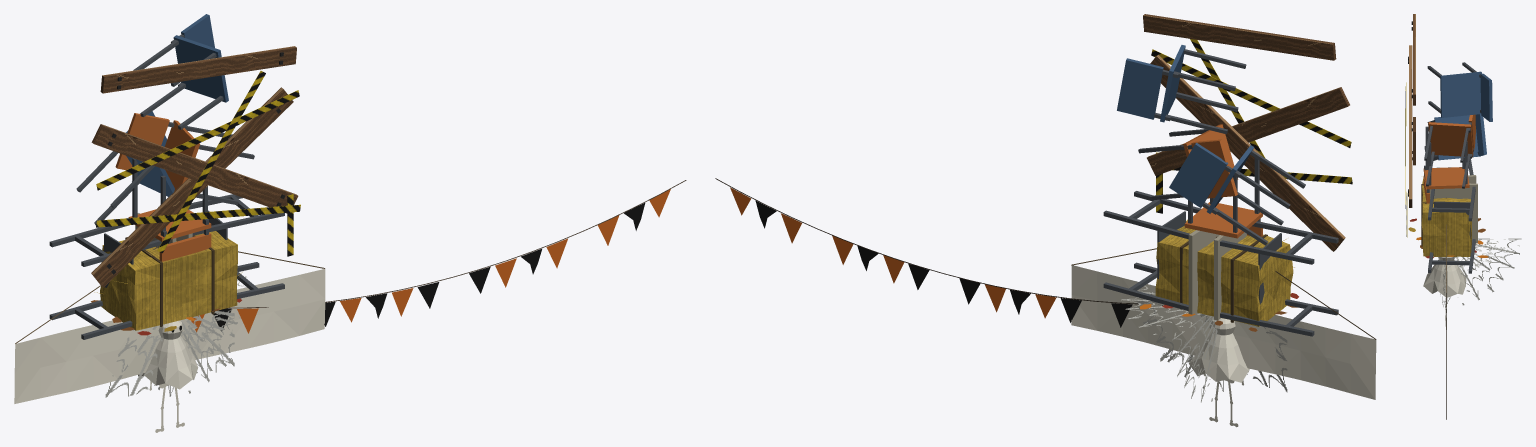
Rendered from halloween_kit.glb.
3 renders of one model, left to right at view 1: azimuth 30°, elevation 25°; view 2: azimuth 150°, elevation 25°; view 3: azimuth 270°, elevation 25°, orthographic. The views are drawn at different scales.
Parts seen in each view (by area): view 1: stair_barricade, banner_board, hay_bale, bunting, ghost_sheet, cobweb_sheet, cobweb_corner; view 2: stair_barricade, banner_board, hay_bale, bunting, ghost_sheet, cobweb_corner; view 3: stair_barricade, hay_bale, ghost_sheet, cobweb_corner, leaves, banner_board.
Boxes of the visible parts, box(x1,y1,x2,y2) form: stair_barricade: box(49, 14, 300, 339); banner_board: box(14, 239, 325, 403); hay_bale: box(94, 231, 242, 330); bunting: box(191, 180, 686, 333); ghost_sheet: box(138, 320, 198, 389); cobweb_sheet: box(105, 310, 234, 397); cobweb_corner: box(158, 276, 259, 396); stair_barricade: box(1103, 14, 1352, 336); banner_board: box(1071, 236, 1376, 399); hay_bale: box(1155, 219, 1294, 326); bunting: box(715, 178, 1162, 327); ghost_sheet: box(1189, 317, 1249, 382); cobweb_corner: box(1121, 281, 1223, 402); stair_barricade: box(1405, 14, 1492, 273); hay_bale: box(1421, 177, 1471, 256); ghost_sheet: box(1423, 257, 1466, 297); cobweb_corner: box(1447, 238, 1521, 305); leaves: box(1408, 218, 1488, 258); banner_board: box(1445, 197, 1447, 329).
Bounding box in the file's own units: 5.2 × 2.9 × 1.09.
32 materials, 8 textured.
